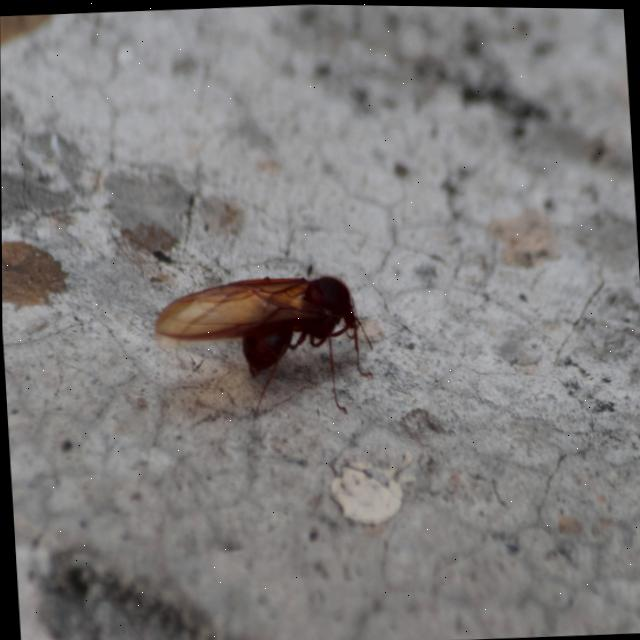Alive-Male-Alate: (150, 268, 375, 425)
